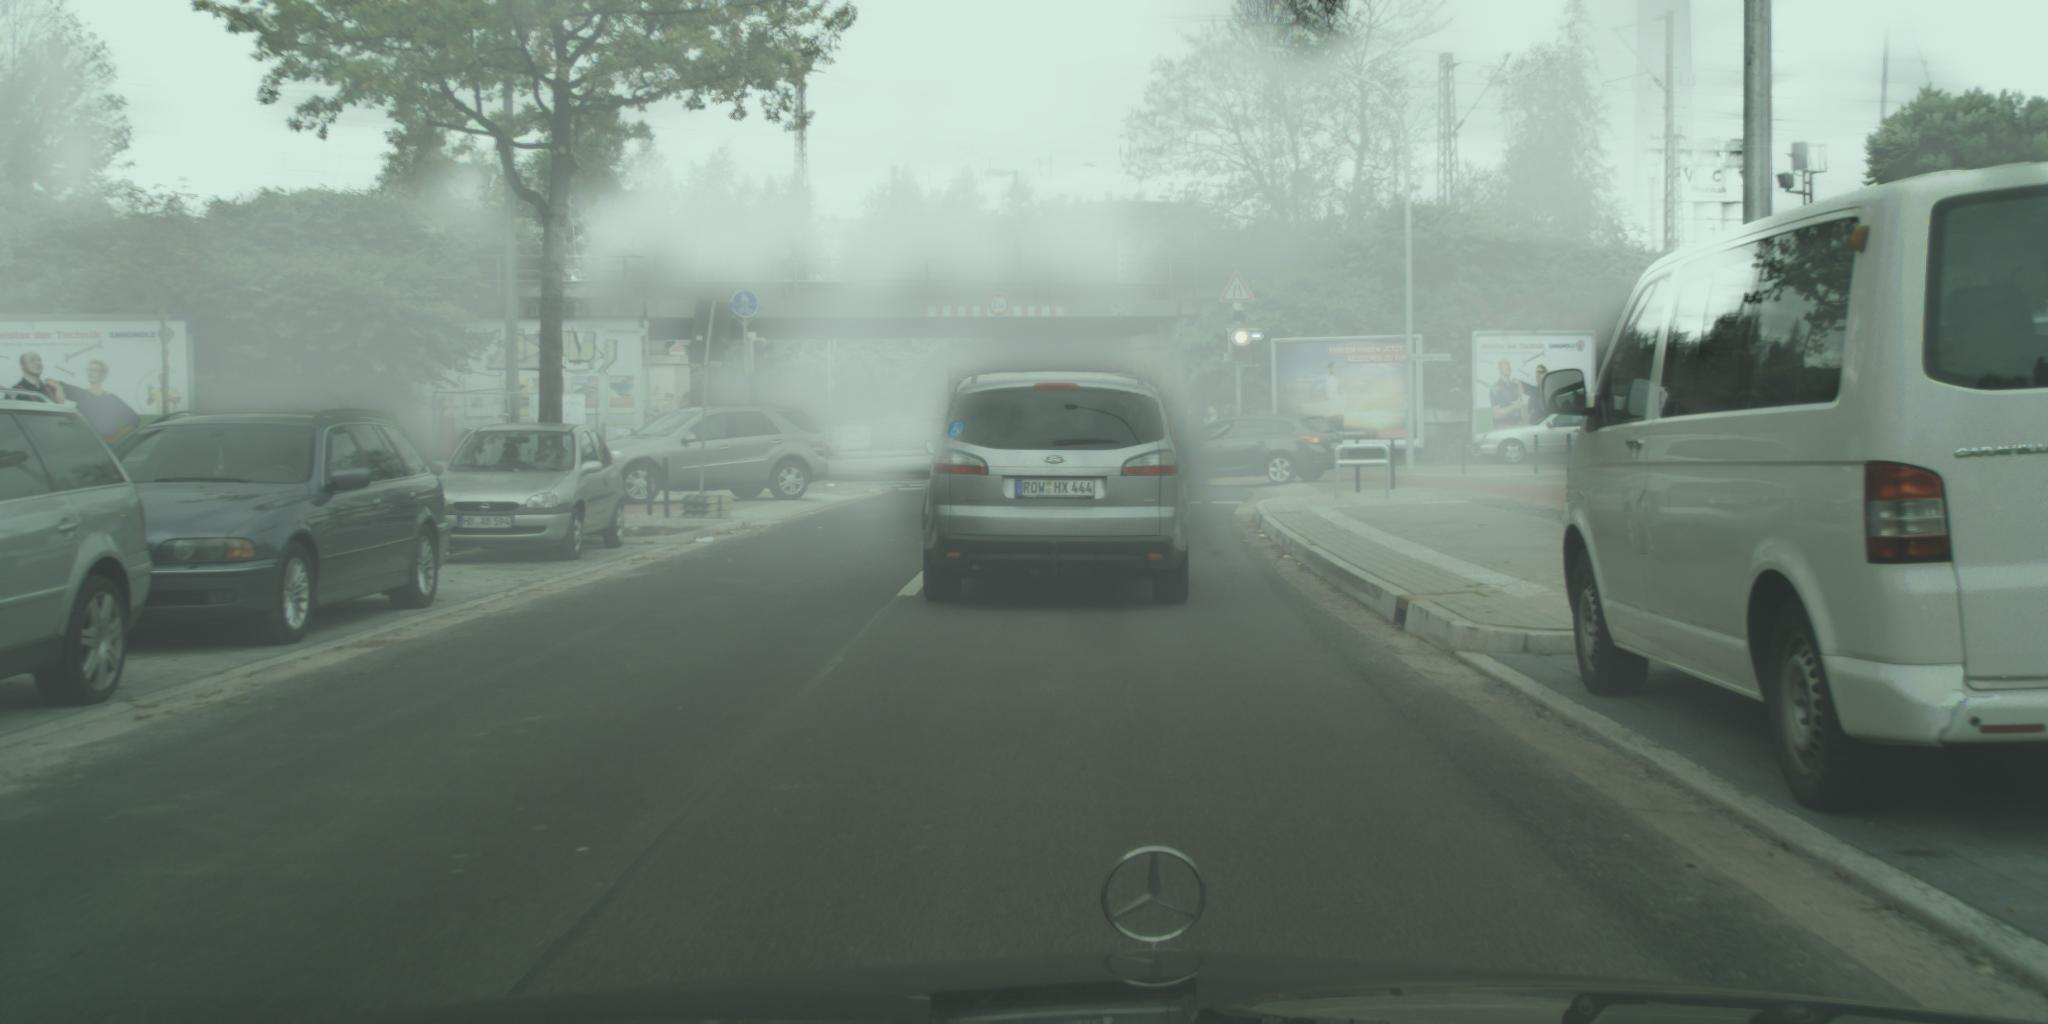car: (1541, 161, 2048, 818), (80, 408, 449, 648), (921, 372, 1202, 607), (1, 389, 155, 711), (431, 422, 626, 563), (600, 406, 829, 505), (1168, 415, 1345, 486), (1482, 408, 1600, 468)
